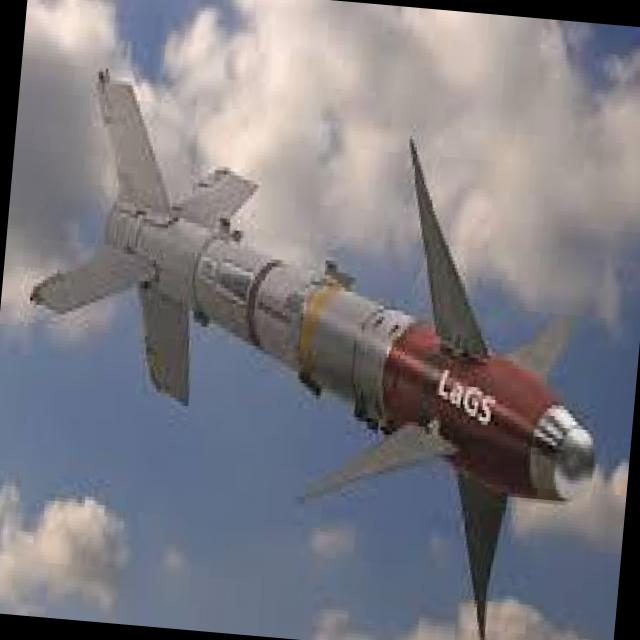rocket: (4, 68, 628, 640)
